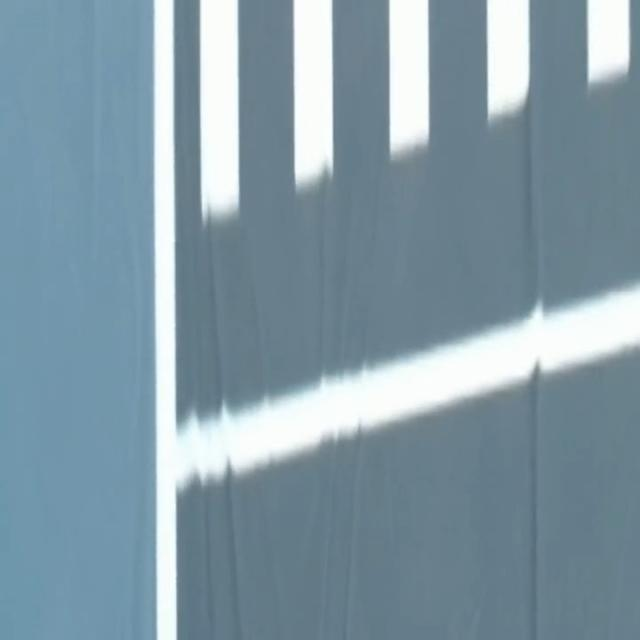left: (154, 0, 176, 639)
